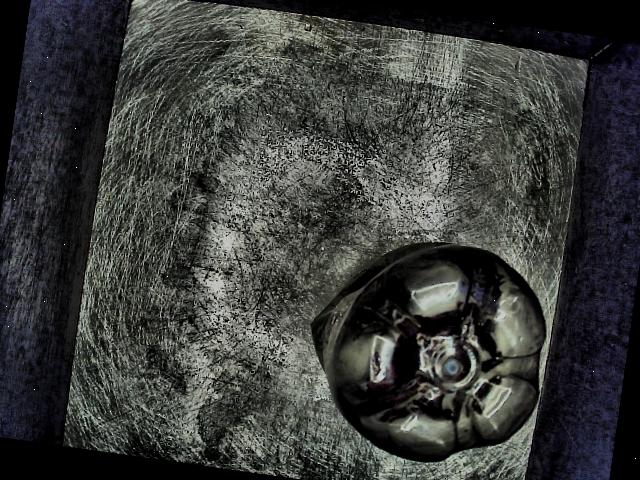Bottles: (270, 207, 565, 480)
